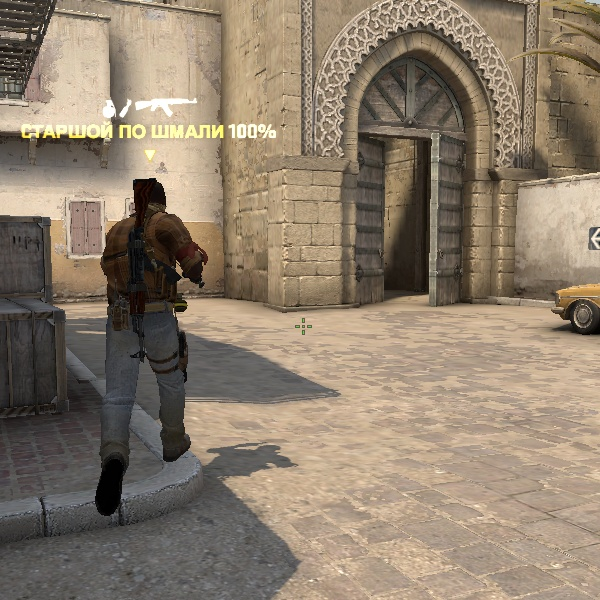t_body: (82, 170, 215, 506)
t_head: (120, 169, 179, 230)
